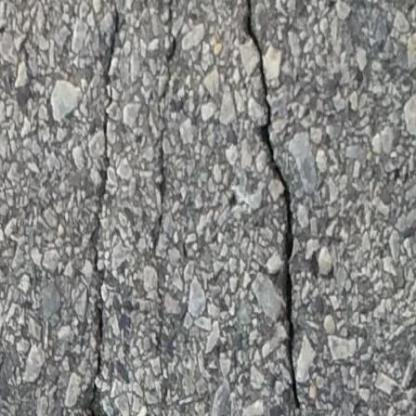Cracks: (16, 0, 138, 416), (185, 0, 317, 263), (132, 0, 215, 412), (238, 94, 339, 416)
